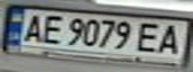0: (81, 16, 100, 47)
7: (97, 17, 118, 48)
9: (112, 18, 139, 51), (60, 15, 84, 47)
A: (154, 22, 190, 55), (18, 11, 48, 44)
E: (133, 20, 166, 54), (36, 11, 66, 45)
